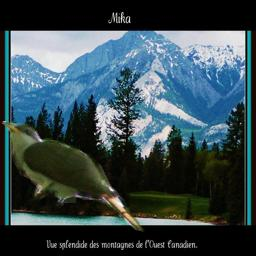Cuckoo: (0, 121, 146, 232)
